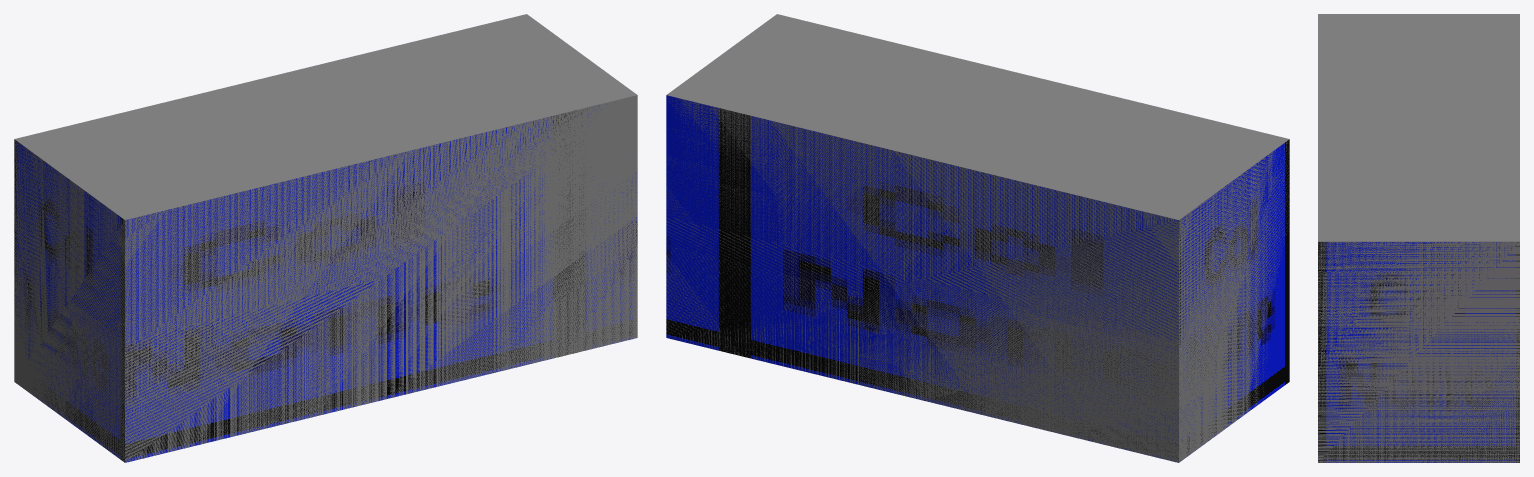
The model's file is dbo_universal_superexclusion_test.glb.
3 views of the same model, side by side, from view 1: azimuth 30°, elevation 25°; view 2: azimuth 150°, elevation 25°; view 3: azimuth 270°, elevation 25° (orthographic). The views are drawn at different scales.
Parts seen in each view (by area): view 1: cover, dbo_universal_superexclusion_test; view 2: cover, dbo_universal_superexclusion_test; view 3: cover, dbo_universal_superexclusion_test.
Part boxes in pixels (bbox=[...]): cover: bbox=[14, 14, 637, 462]; dbo_universal_superexclusion_test: bbox=[14, 105, 637, 462]; cover: bbox=[666, 14, 1289, 462]; dbo_universal_superexclusion_test: bbox=[666, 95, 1289, 462]; cover: bbox=[1318, 14, 1519, 462]; dbo_universal_superexclusion_test: bbox=[1318, 242, 1519, 462].
Bounding box in the file's own units: 0.2588 × 0.1172 × 0.0969.
2 materials, 2 textured.
